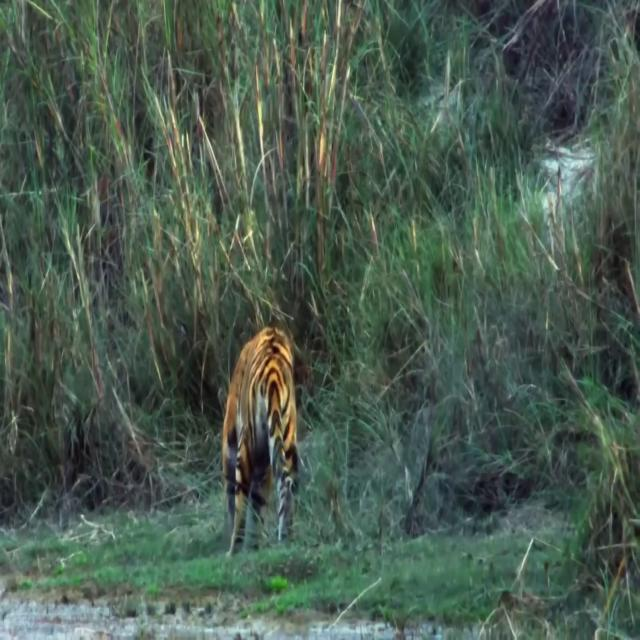tiger: (222, 324, 300, 557)
